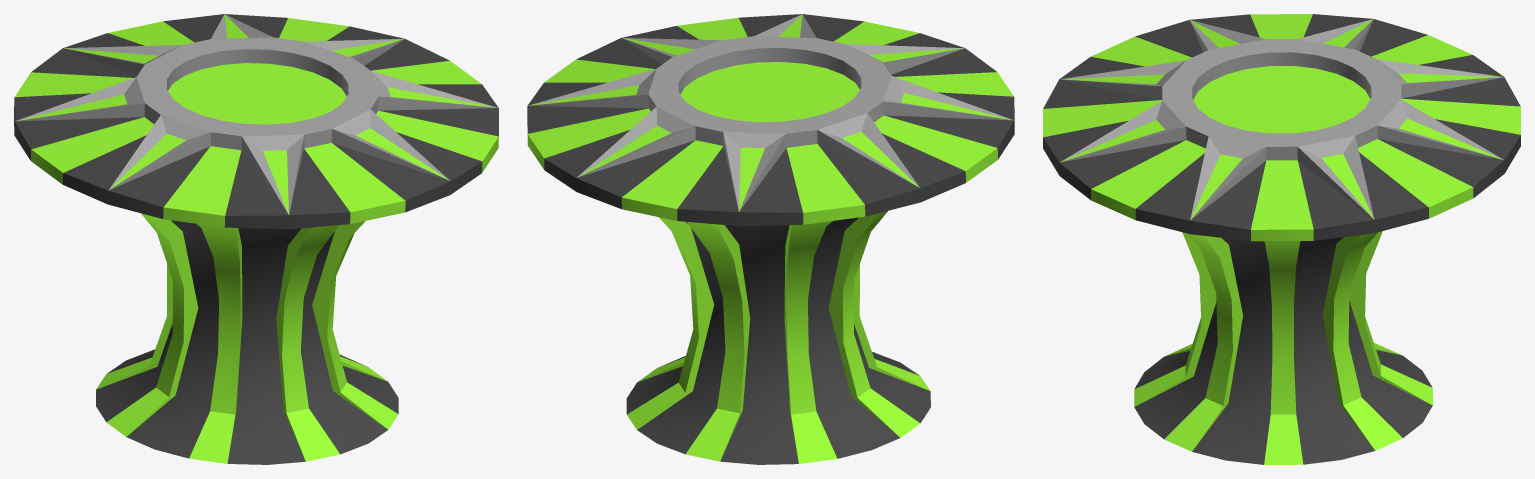
The model's file is BumperStar.fbx.
3 views of the same model, side by side, from view 1: azimuth 30°, elevation 25°; view 2: azimuth 150°, elevation 25°; view 3: azimuth 270°, elevation 25° (orthographic).
Visible parts, largest first — view 1: BumperStar; view 2: BumperStar; view 3: BumperStar.
Part boxes in pixels (x1,y1,x2,y2): BumperStar: (14,14,498,464); BumperStar: (527,14,1014,464); BumperStar: (1043,14,1520,464).
Size of the model in its own units: 79.36 by 58.07 by 79.34.
